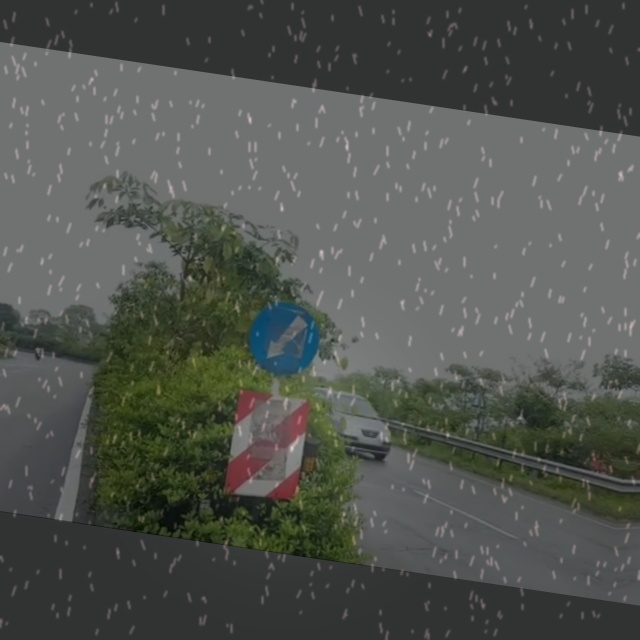Compulsory_Keep_Left: (237, 290, 333, 385)
